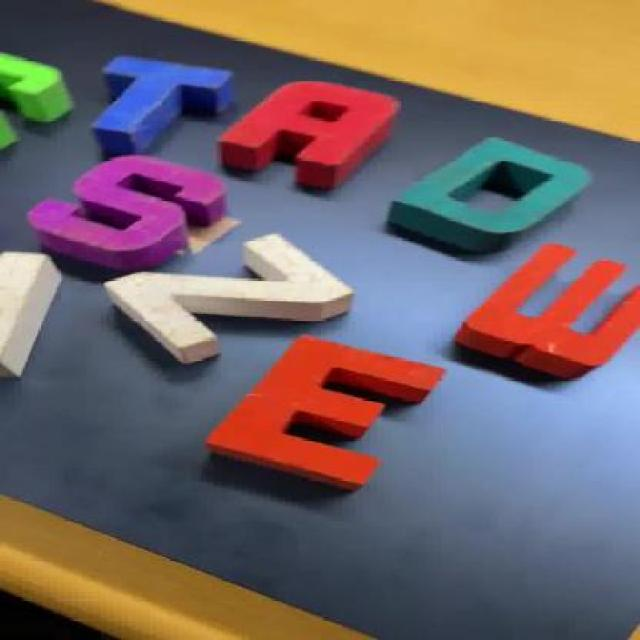A: (231, 81, 386, 188)
D: (386, 136, 588, 252)
E: (208, 337, 450, 497)
S: (19, 153, 228, 267)
T: (91, 55, 234, 139)
W: (446, 247, 640, 382)
Z: (109, 235, 362, 357)
